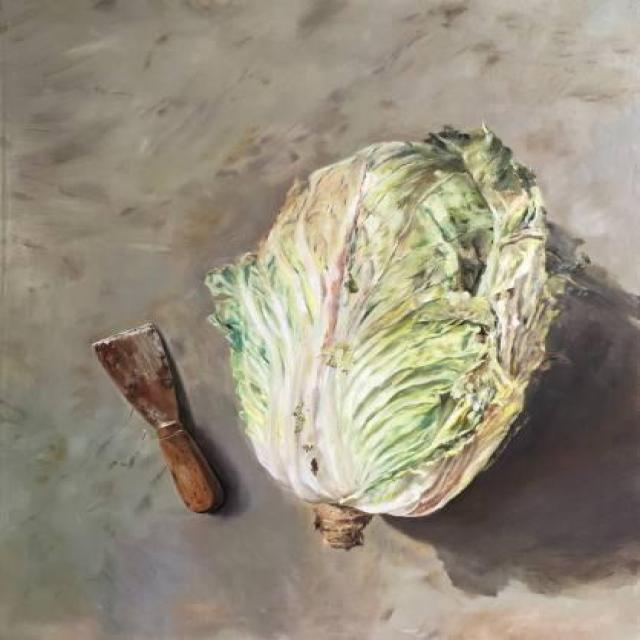-Kitchen waste - vegetable roots and leaves-: (236, 136, 548, 527)
